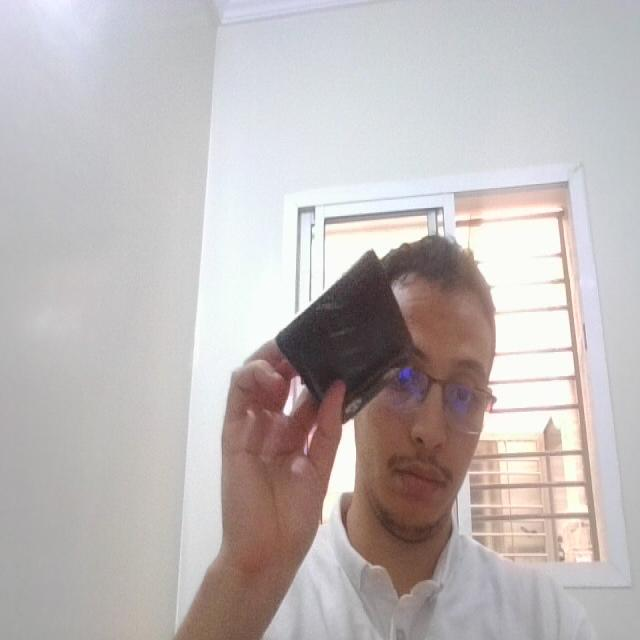wallet: (270, 244, 422, 430)
